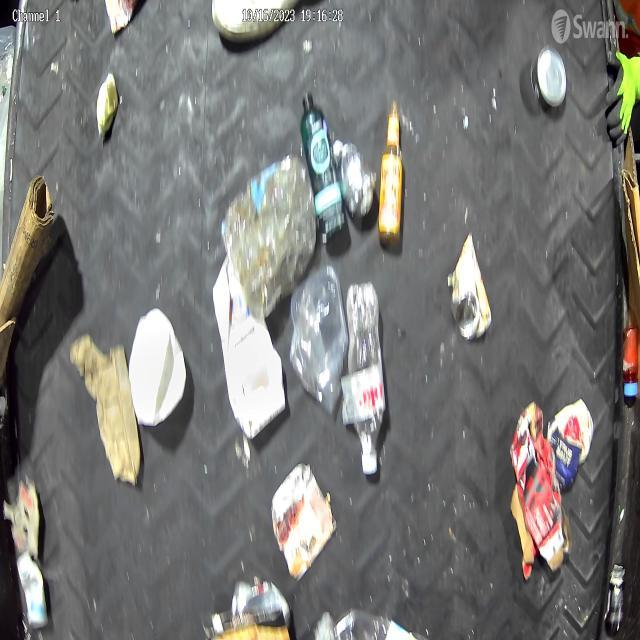can: (270, 458, 340, 583), (448, 232, 494, 342), (531, 42, 568, 110)
plastic_bottle: (344, 278, 387, 476)
